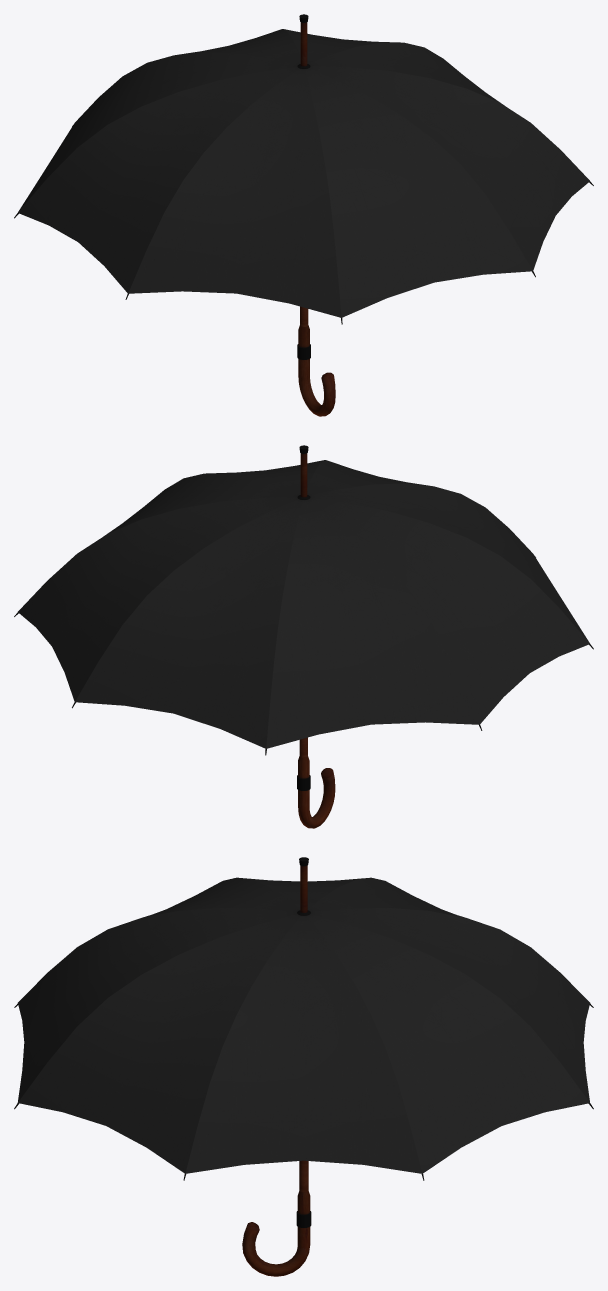
File: umbrella.glb
The picture shows the model from 3 angles, top to bottom: view 1: azimuth 30°, elevation 25°; view 2: azimuth 150°, elevation 25°; view 3: azimuth 270°, elevation 25°; orthographic projection. The views are drawn at different scales.
Parts seen in each view (by area): view 1: Object_3; view 2: Object_3; view 3: Object_3.
Boxes of the visible parts, bbox=[...] form: Object_3: bbox=[14, 14, 593, 416]; Object_3: bbox=[14, 445, 593, 828]; Object_3: bbox=[14, 857, 593, 1276].
Size of the model in its own units: 125 by 98.82 by 125.
Materials: 1 (1 with a texture image).
